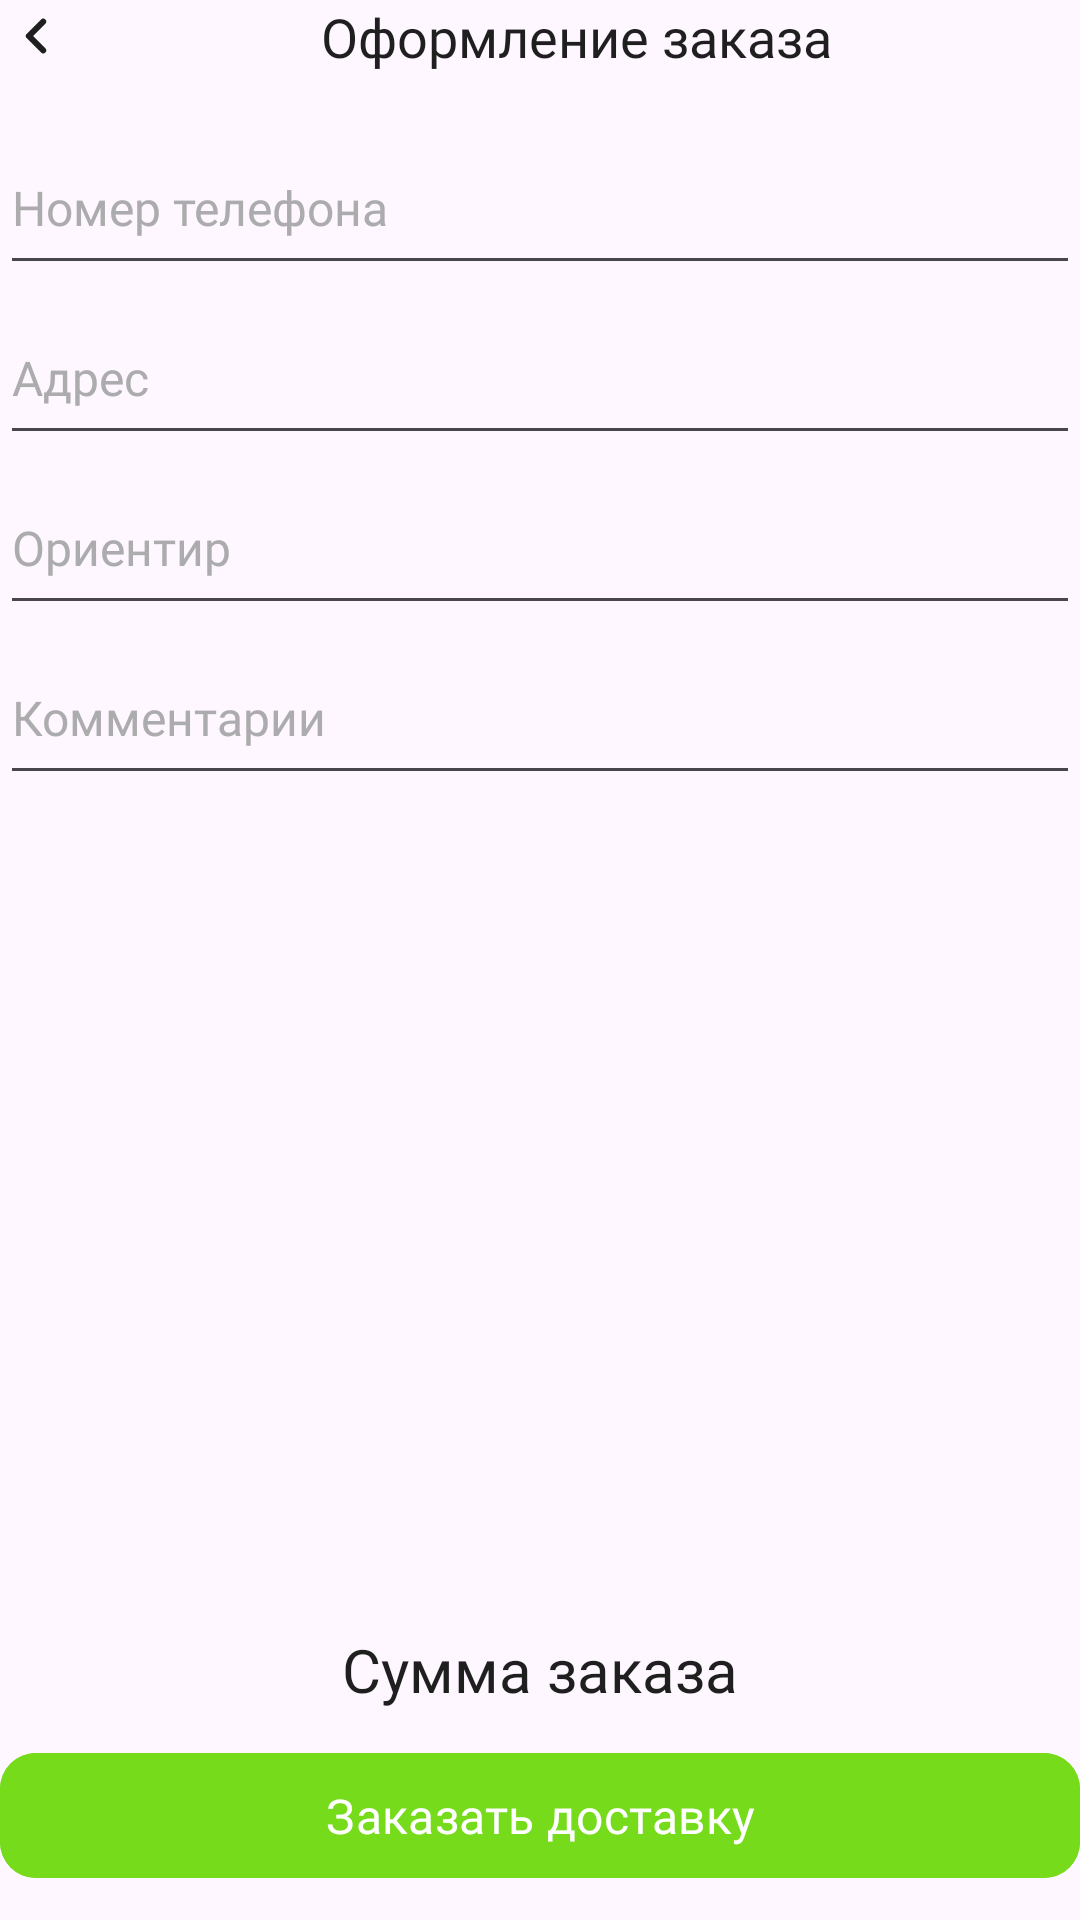

Icon bounding boxes for this 1080w x 1920h phone screenshot, format (x1, y1, x2, y2):
arrow back: (25, 18, 47, 54)
